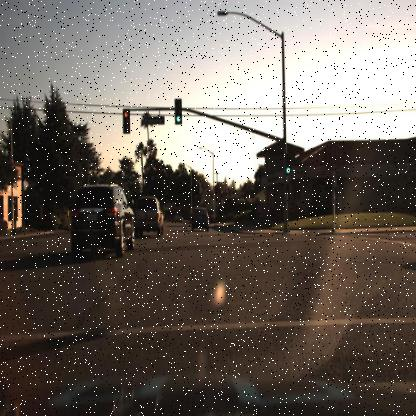car: (66, 173, 139, 269), (128, 194, 169, 242), (183, 201, 217, 237), (171, 209, 186, 228)
trafficLight-Green: (173, 100, 182, 124), (283, 161, 291, 180)
trafficLight-RedLeft: (121, 106, 131, 126)
